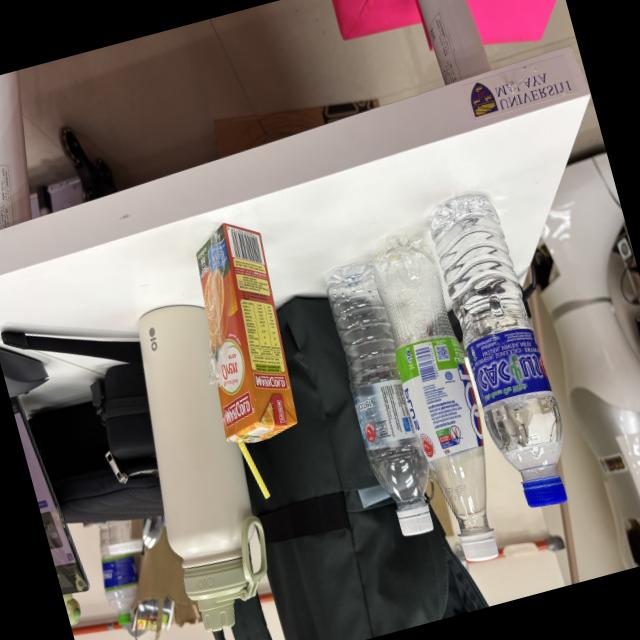drink_carton: (170, 200, 336, 510)
plastic_bottle: (350, 195, 524, 580), (416, 170, 590, 530), (305, 245, 466, 563)
